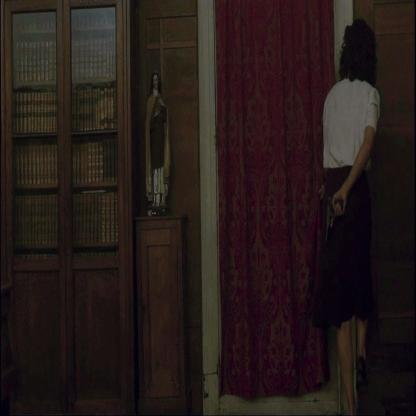gun: (311, 185, 346, 245)
